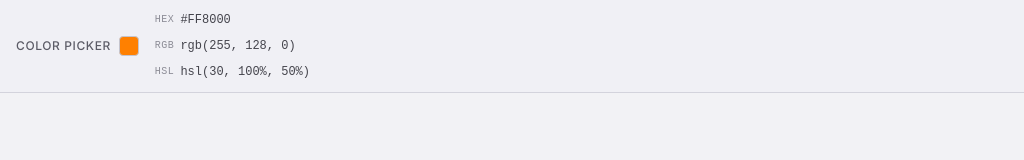
Scenario: EyedropperControls — copying › restarts the timer when copying twice in a row
The width and height of the screenshot is (1024, 160).
Click the button titled "Copy HEX" at (201, 20), box x1=147 y1=8 x2=255 y2=32
Wait 1000 ms
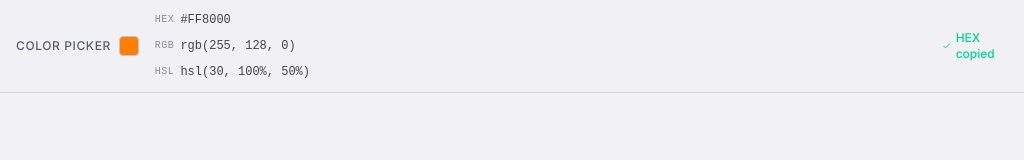
Expected: the text "HEX copied" is shown, x1=942 y1=30 x2=995 y2=61
Click the button titled "Copy RGB" at (233, 46), box x1=147 y1=34 x2=320 y2=58
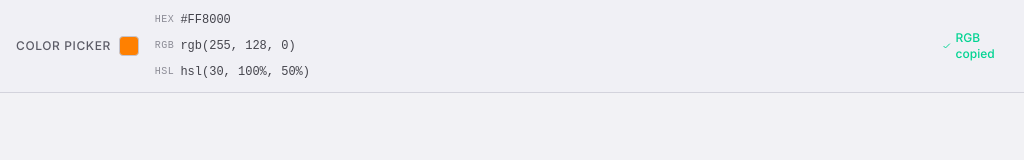
Expected: the text "RGB copied" is shown, x1=942 y1=30 x2=995 y2=61
